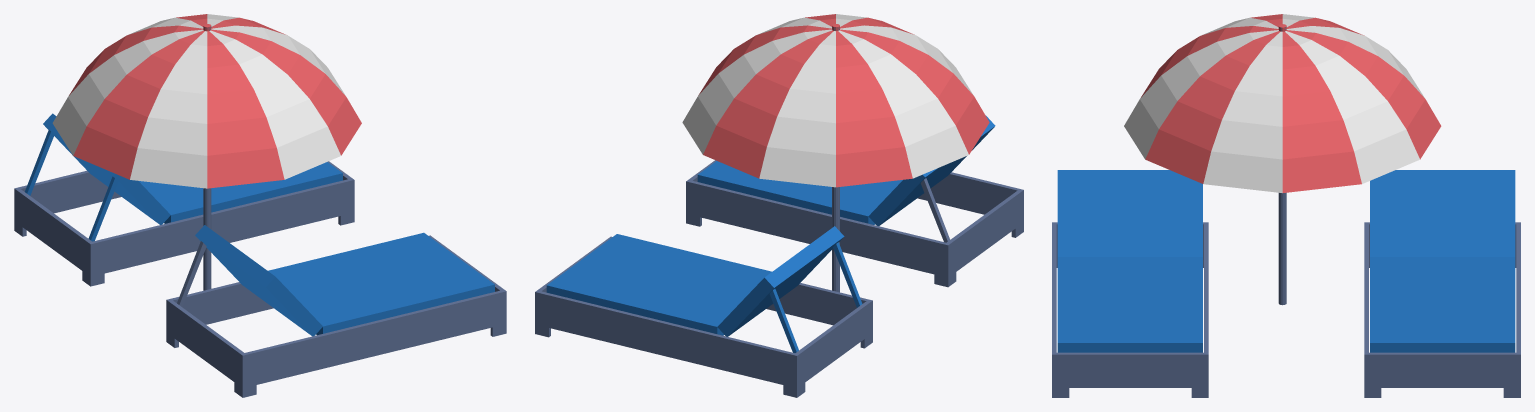
Rendered from sunnbend-1.fbx.
The picture shows the model from 3 angles, left to right: view 1: azimuth 30°, elevation 25°; view 2: azimuth 150°, elevation 25°; view 3: azimuth 270°, elevation 25°; orthographic projection. The views are drawn at different scales.
Parts seen in each view (by area): view 1: Sphere.001; view 2: Sphere.001; view 3: Sphere.001.
Boxes of the visible parts, x1,y1,x2,y2 form: Sphere.001: [14, 14, 506, 397]; Sphere.001: [535, 14, 1023, 397]; Sphere.001: [1052, 14, 1520, 397].
Size of the model in its own units: 486 by 392 by 599.
